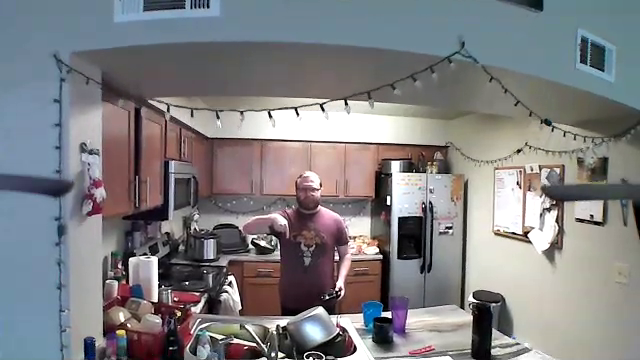down: (267, 207, 292, 242)
